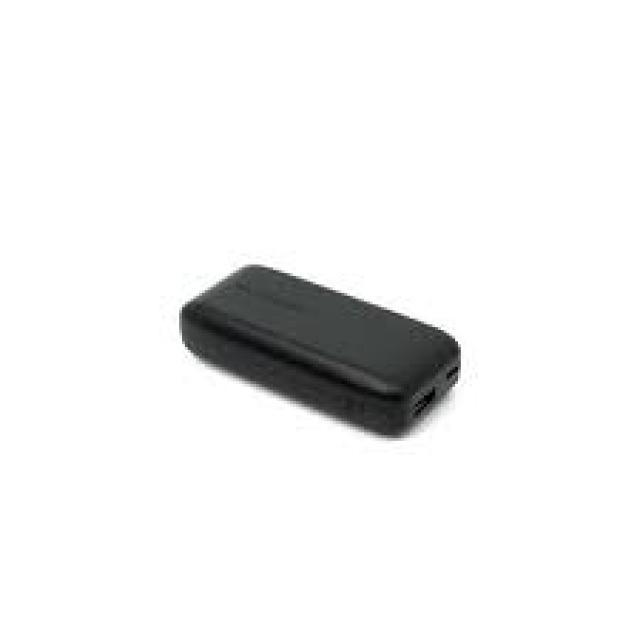battery: (164, 256, 466, 440)
